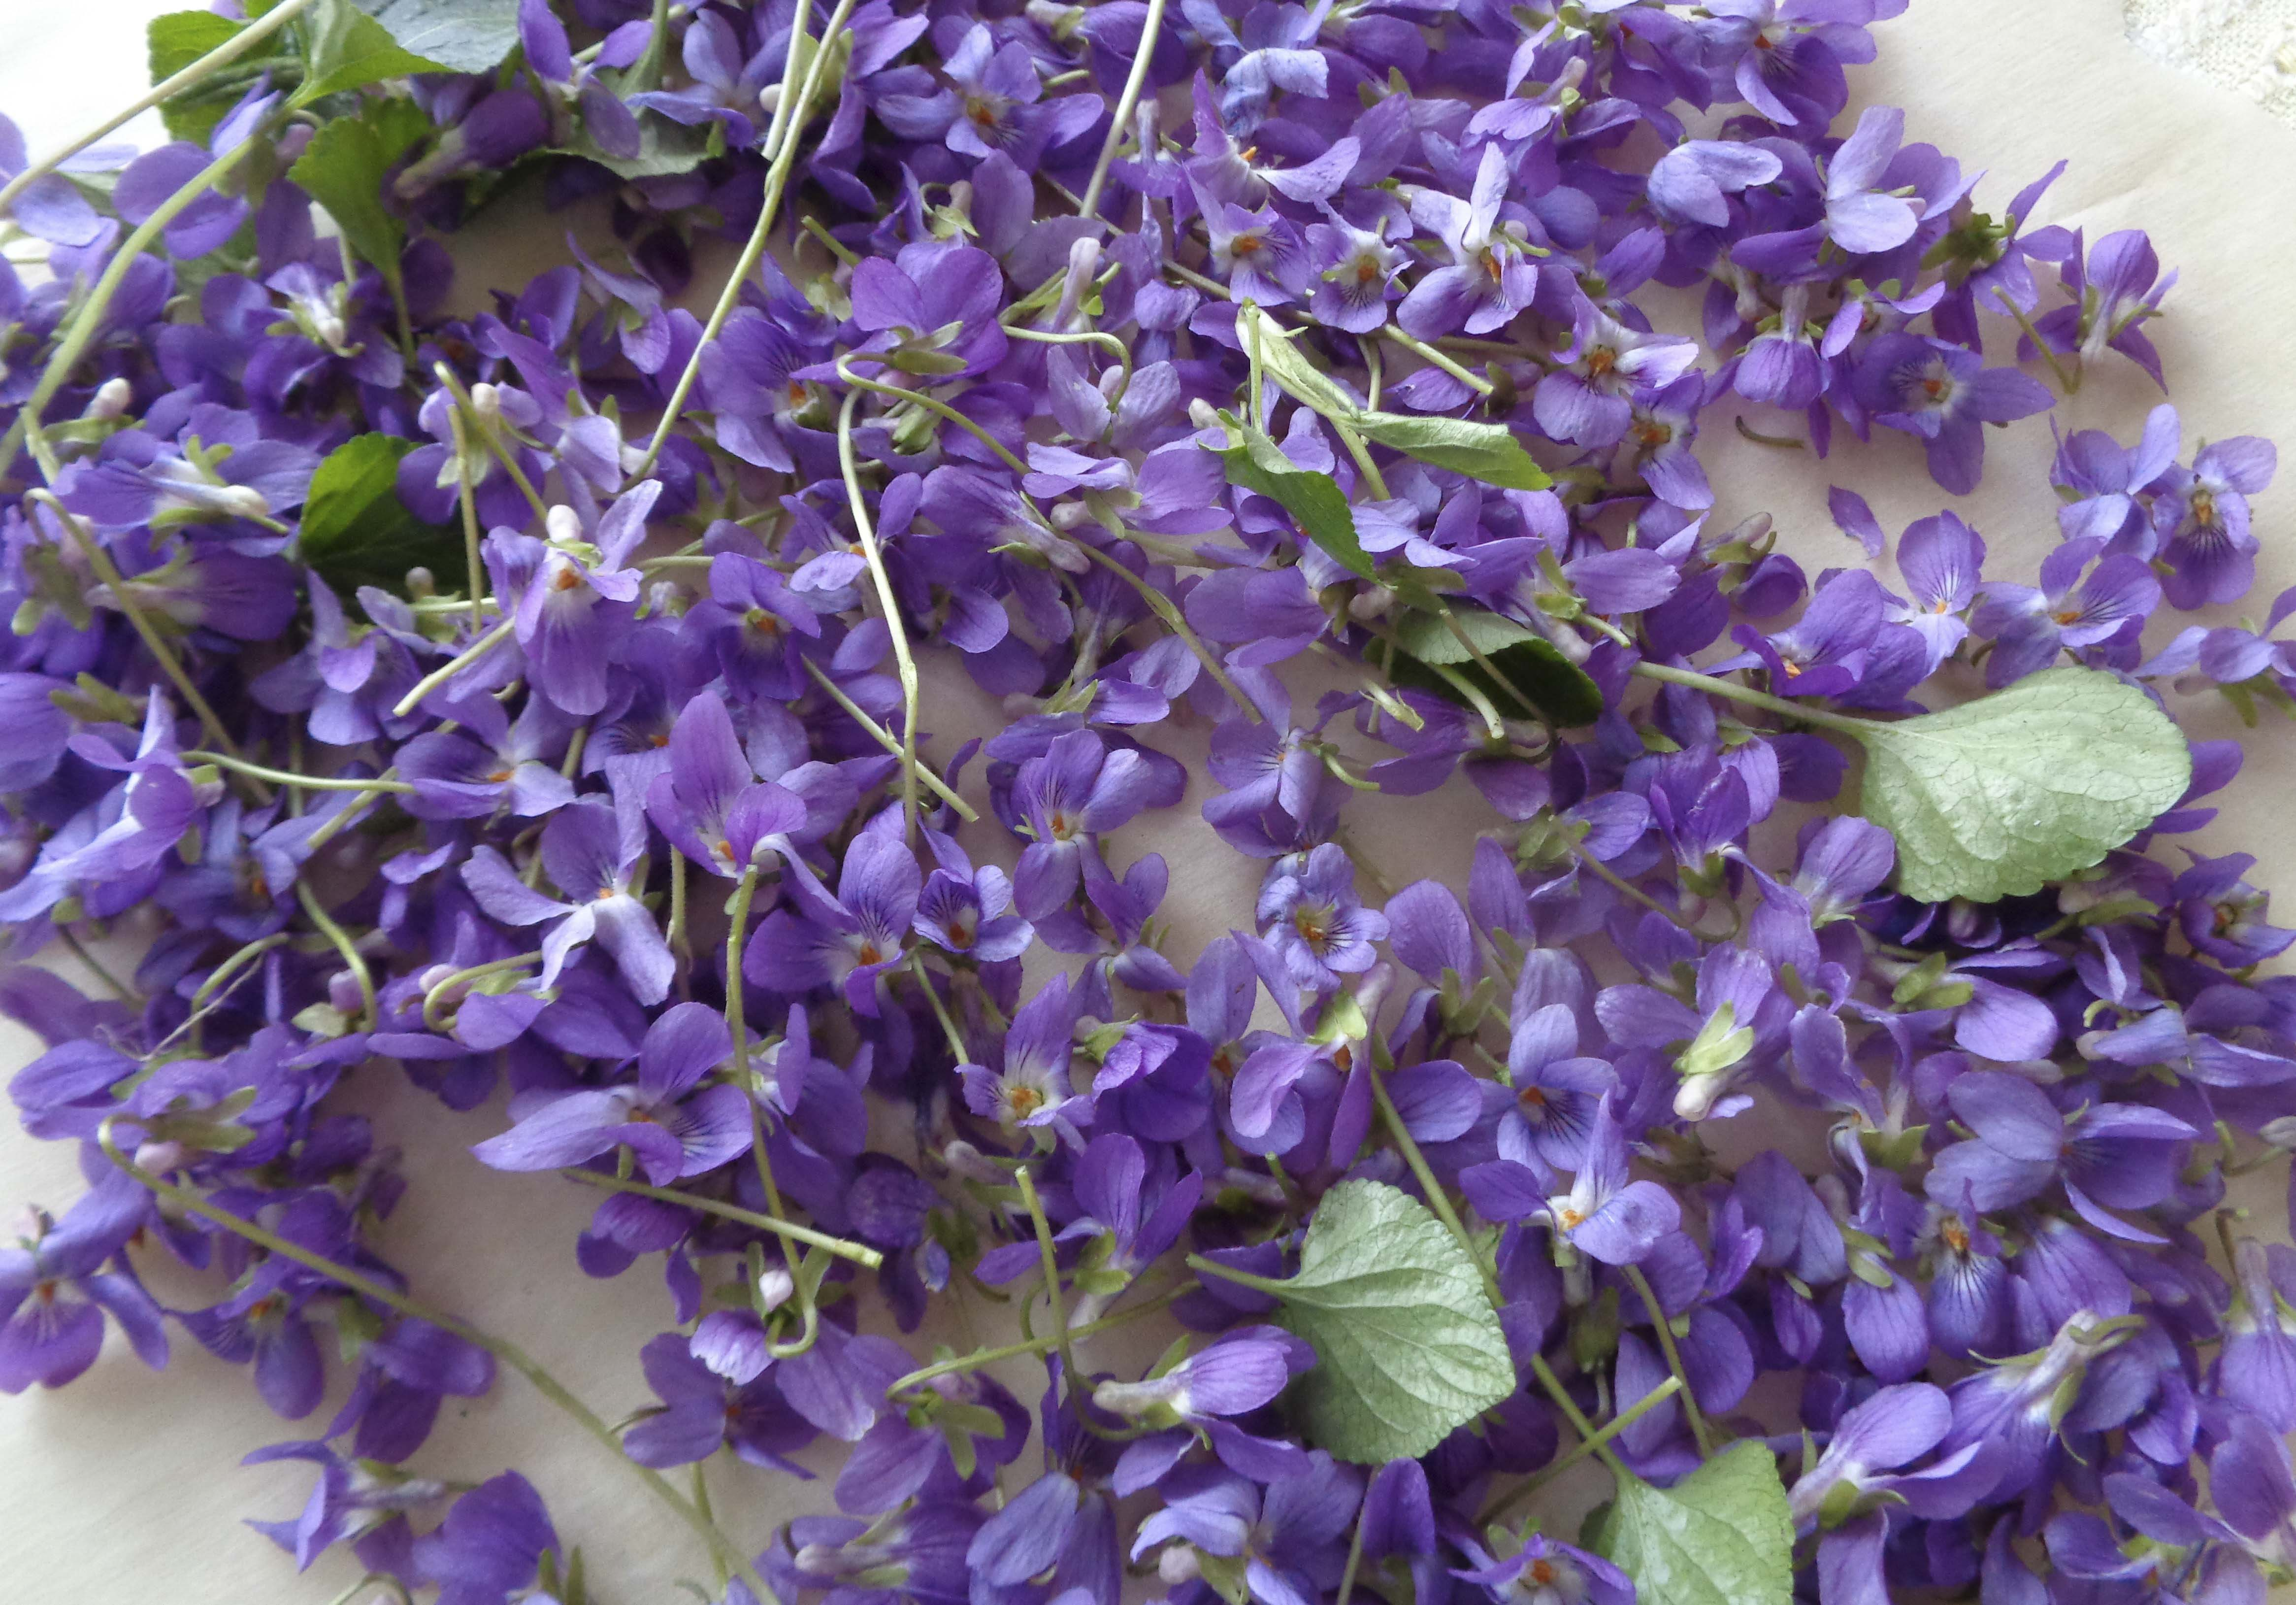violet: (10, 33, 2296, 1572)
